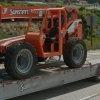Tractor: (5, 5, 96, 82)
